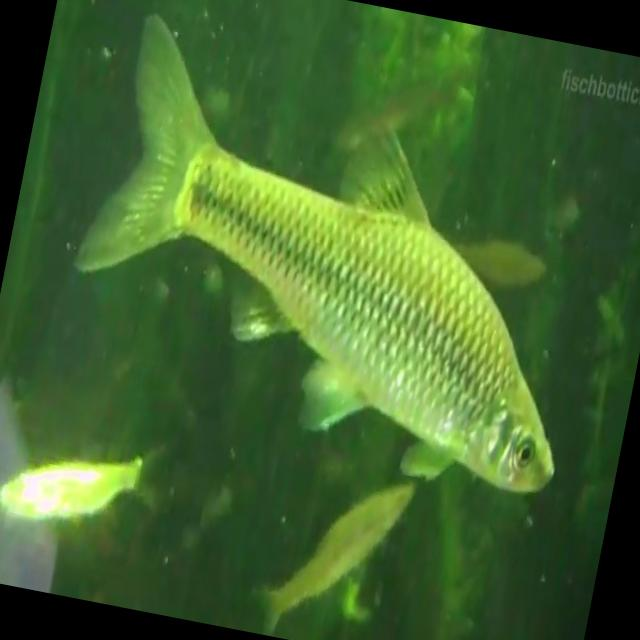Cakil Baligi: (39, 0, 631, 511)
